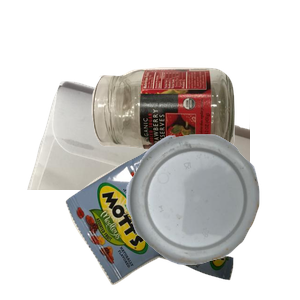glass: (89, 65, 300, 212)
paper: (25, 79, 265, 259)
plastic: (124, 132, 300, 300)
trash: (63, 137, 289, 300)
